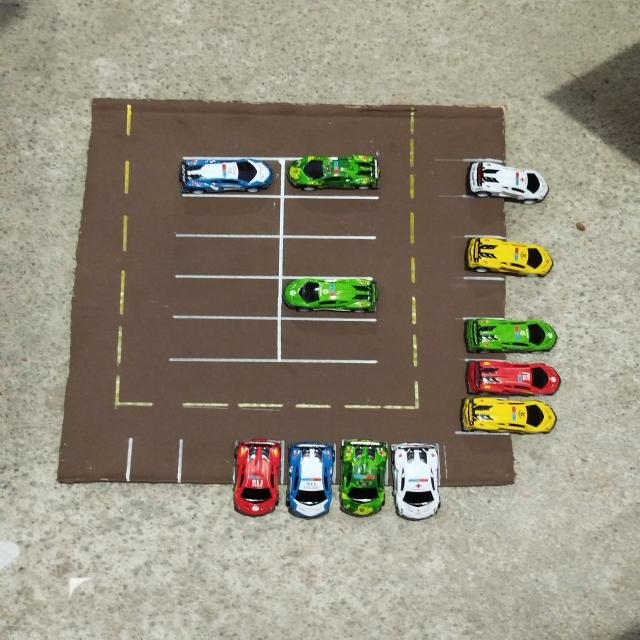libre: (60, 434, 126, 526), (169, 316, 278, 360), (126, 433, 180, 521), (180, 434, 229, 527), (172, 277, 280, 319), (278, 318, 380, 362), (176, 234, 283, 275), (178, 194, 280, 236), (460, 276, 561, 318), (282, 197, 378, 238), (279, 237, 375, 276), (461, 201, 558, 235)
ocupado: (284, 434, 340, 525), (389, 439, 445, 525), (460, 316, 561, 361), (230, 436, 282, 522), (461, 393, 564, 434), (281, 276, 381, 318), (283, 156, 381, 198), (175, 157, 283, 195), (341, 436, 388, 522), (460, 235, 556, 277), (463, 358, 563, 397), (460, 160, 550, 202)
